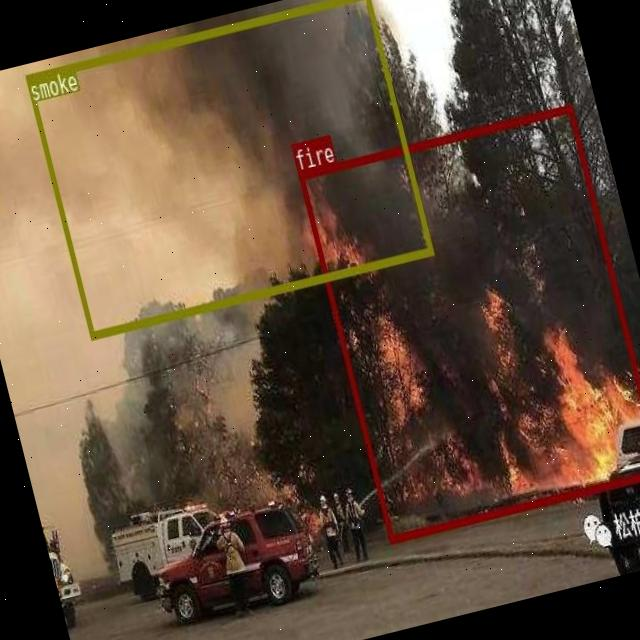fire: (296, 103, 640, 543)
smoke: (25, 0, 432, 337)
